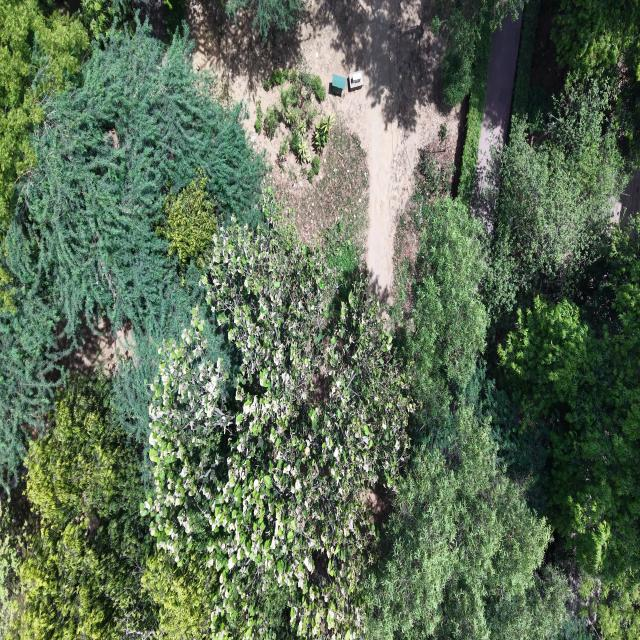DRY_AREA: (187, 0, 462, 298), (187, 0, 459, 297), (472, 11, 521, 232), (477, 12, 521, 191), (479, 11, 521, 189), (62, 318, 135, 375), (530, 0, 567, 107), (530, 0, 567, 106), (612, 171, 639, 224), (133, 0, 166, 40), (621, 171, 639, 217)
VEGETATION_TREE: (0, 0, 639, 639), (4, 197, 411, 637), (0, 24, 262, 637), (396, 76, 639, 638), (0, 24, 262, 477), (143, 215, 412, 637), (484, 3, 639, 638), (366, 190, 568, 638), (6, 27, 261, 333), (499, 228, 639, 637), (367, 406, 567, 639), (499, 282, 639, 579), (16, 376, 156, 639), (485, 81, 626, 313), (0, 0, 132, 238), (0, 0, 89, 242), (0, 0, 89, 237), (398, 197, 487, 423), (552, 0, 639, 165), (0, 288, 68, 488), (289, 121, 369, 263), (432, 0, 524, 106), (456, 22, 492, 204), (264, 70, 333, 164), (141, 553, 211, 639), (158, 169, 217, 269), (554, 0, 639, 68), (77, 0, 186, 43), (409, 125, 455, 226), (0, 487, 29, 638), (442, 10, 479, 105), (512, 0, 541, 117), (225, 0, 304, 39), (617, 53, 639, 168), (597, 581, 639, 639), (280, 71, 317, 134), (80, 0, 133, 38), (264, 69, 325, 102), (415, 150, 454, 201), (525, 85, 560, 135), (163, 0, 186, 43), (555, 616, 593, 639), (314, 113, 334, 152), (304, 75, 326, 101), (263, 106, 279, 139), (264, 69, 289, 90), (295, 137, 311, 164), (277, 136, 290, 168), (254, 101, 263, 134), (290, 132, 302, 156), (308, 156, 319, 182), (438, 123, 447, 144), (312, 156, 319, 175), (307, 168, 314, 183)
